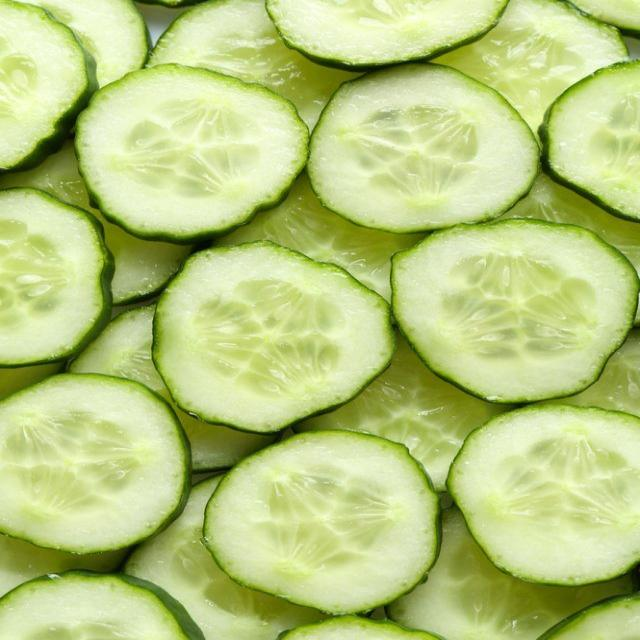cucumber sliced: (153, 241, 393, 432), (392, 220, 638, 403), (204, 431, 439, 613), (75, 64, 308, 243), (308, 64, 538, 233), (448, 405, 639, 585), (0, 374, 189, 552), (69, 307, 272, 472), (387, 508, 633, 639), (125, 476, 322, 639), (295, 340, 507, 490), (0, 142, 190, 304), (214, 174, 423, 300), (149, 0, 353, 128), (438, 0, 627, 129), (0, 189, 111, 366), (0, 0, 95, 172), (266, 0, 506, 68), (540, 61, 639, 222), (0, 571, 203, 639), (500, 175, 639, 271), (30, 0, 148, 85), (0, 535, 125, 595), (558, 329, 639, 417), (539, 594, 639, 639), (279, 616, 440, 639), (572, 0, 639, 36), (0, 363, 63, 399), (139, 0, 201, 8)
